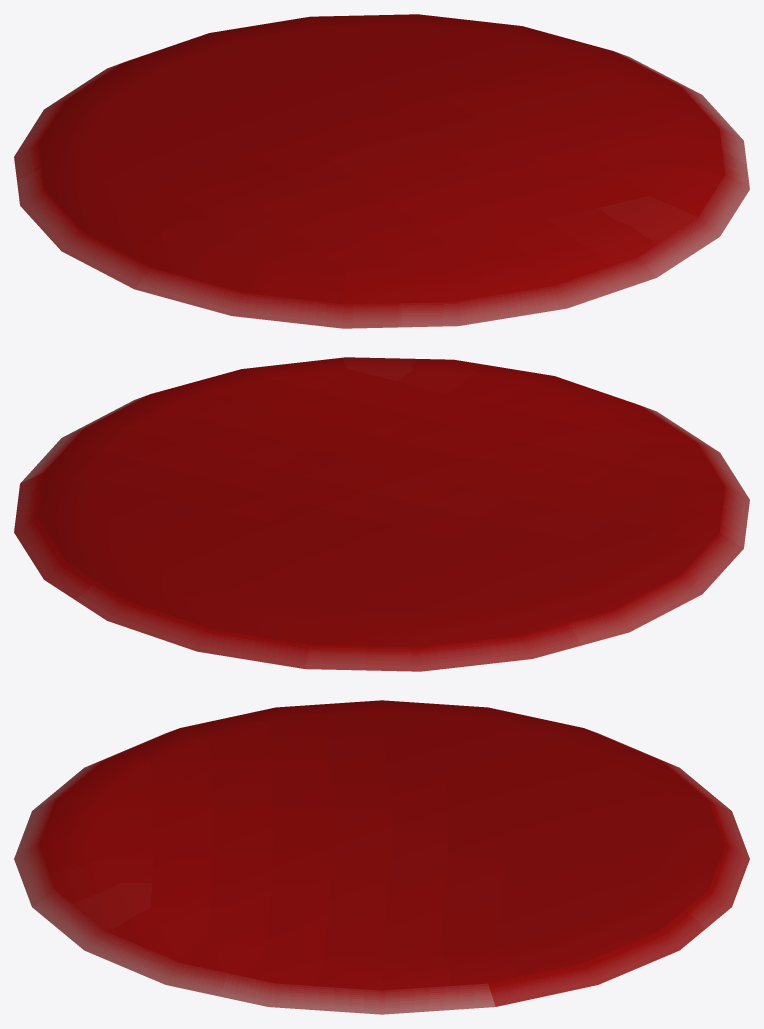
File: blood_pool.obj
3 renders of one model, top to bottom at view 1: azimuth 30°, elevation 25°; view 2: azimuth 150°, elevation 25°; view 3: azimuth 270°, elevation 25°, orthographic.
Parts seen in each view (by area): view 1: pCylinder1; view 2: pCylinder1; view 3: pCylinder1.
Boxes of the visible parts, x1,y1,x2,y2 form: pCylinder1: [14, 14, 749, 328]; pCylinder1: [14, 357, 749, 671]; pCylinder1: [14, 700, 749, 1014].
Bounding box in the file's own units: 43.87 × 1.67 × 43.87.
